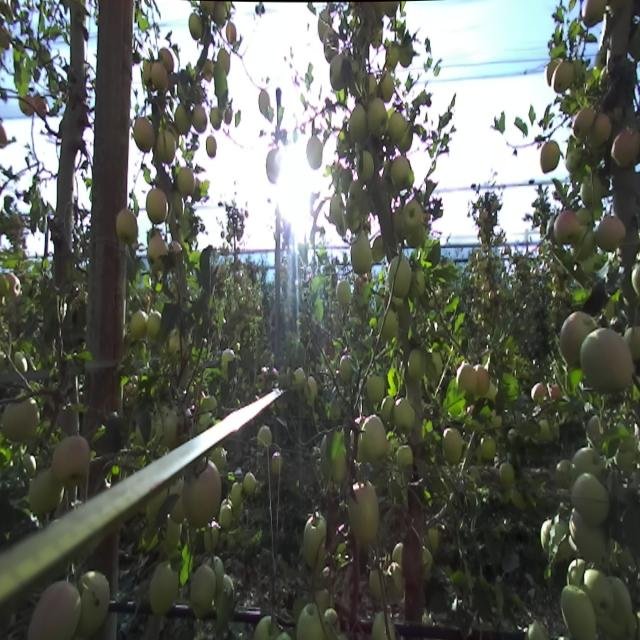apple: (580, 328, 632, 394), (27, 580, 81, 640), (183, 461, 221, 526), (80, 570, 110, 636), (348, 479, 379, 542), (572, 472, 608, 526), (52, 436, 90, 486), (560, 586, 595, 640), (2, 393, 39, 441), (559, 312, 591, 365), (148, 560, 178, 613), (29, 470, 64, 512), (190, 565, 216, 616), (584, 569, 612, 615), (361, 416, 386, 466), (164, 407, 193, 449), (303, 518, 326, 568), (597, 214, 625, 255), (612, 128, 640, 167), (541, 521, 569, 560), (610, 576, 632, 625), (571, 515, 602, 549), (297, 603, 323, 640), (388, 257, 411, 297), (554, 210, 579, 245), (574, 448, 604, 475), (116, 209, 138, 244), (351, 238, 372, 274), (146, 188, 168, 222), (442, 428, 462, 465), (147, 235, 168, 270), (218, 576, 234, 621), (133, 119, 154, 152), (573, 227, 594, 260), (368, 99, 387, 134), (387, 562, 404, 601), (551, 62, 573, 92), (573, 107, 593, 140), (391, 155, 410, 189), (395, 399, 414, 433), (350, 105, 368, 140), (540, 141, 559, 174), (372, 612, 394, 640), (580, 175, 601, 204), (157, 131, 176, 163), (170, 483, 185, 523), (581, 0, 605, 25), (254, 616, 278, 640), (408, 349, 426, 380), (592, 115, 610, 146), (151, 60, 168, 92), (457, 363, 475, 393), (404, 200, 422, 229), (474, 365, 490, 397), (357, 151, 374, 181), (367, 372, 384, 402), (567, 558, 584, 588), (174, 104, 190, 135), (307, 138, 323, 169), (388, 111, 404, 142), (625, 326, 640, 359), (178, 167, 195, 196), (210, 557, 223, 594), (330, 55, 343, 92), (164, 519, 180, 549), (323, 608, 339, 638), (130, 310, 147, 338), (379, 310, 396, 338), (2, 272, 20, 298), (555, 460, 573, 485), (191, 105, 207, 133), (324, 27, 338, 59), (266, 151, 280, 182), (204, 523, 218, 554), (321, 436, 331, 478), (380, 74, 394, 103), (158, 48, 174, 73), (332, 453, 345, 483), (480, 435, 496, 459), (370, 569, 383, 598), (525, 623, 547, 640), (189, 13, 202, 41), (340, 355, 353, 382), (381, 394, 394, 420), (172, 190, 184, 218), (146, 312, 160, 336), (337, 281, 351, 305), (398, 446, 413, 468), (499, 462, 514, 483), (213, 1, 225, 27), (220, 504, 232, 530), (348, 181, 362, 203), (197, 413, 215, 430), (318, 11, 332, 32), (258, 427, 272, 448), (306, 376, 318, 400), (292, 368, 305, 390), (15, 351, 28, 373), (203, 396, 218, 415), (531, 382, 546, 401), (544, 61, 556, 84), (414, 269, 424, 295), (243, 473, 255, 494), (432, 352, 442, 377), (232, 482, 243, 504), (206, 136, 217, 158), (222, 349, 235, 367), (210, 108, 221, 129), (566, 149, 577, 170), (392, 544, 404, 563), (272, 452, 282, 473), (423, 548, 432, 570), (429, 528, 438, 550), (200, 1, 213, 16), (330, 400, 340, 418), (550, 384, 562, 399), (144, 62, 152, 84)
